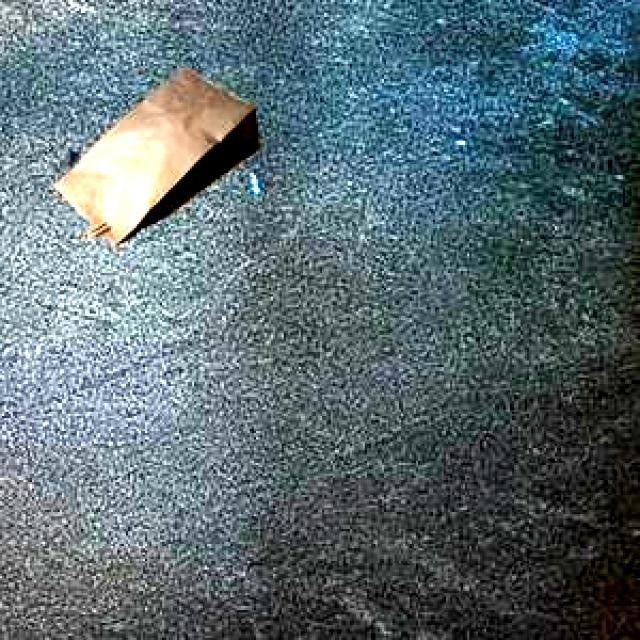Paper_Bag: (52, 65, 255, 242)
